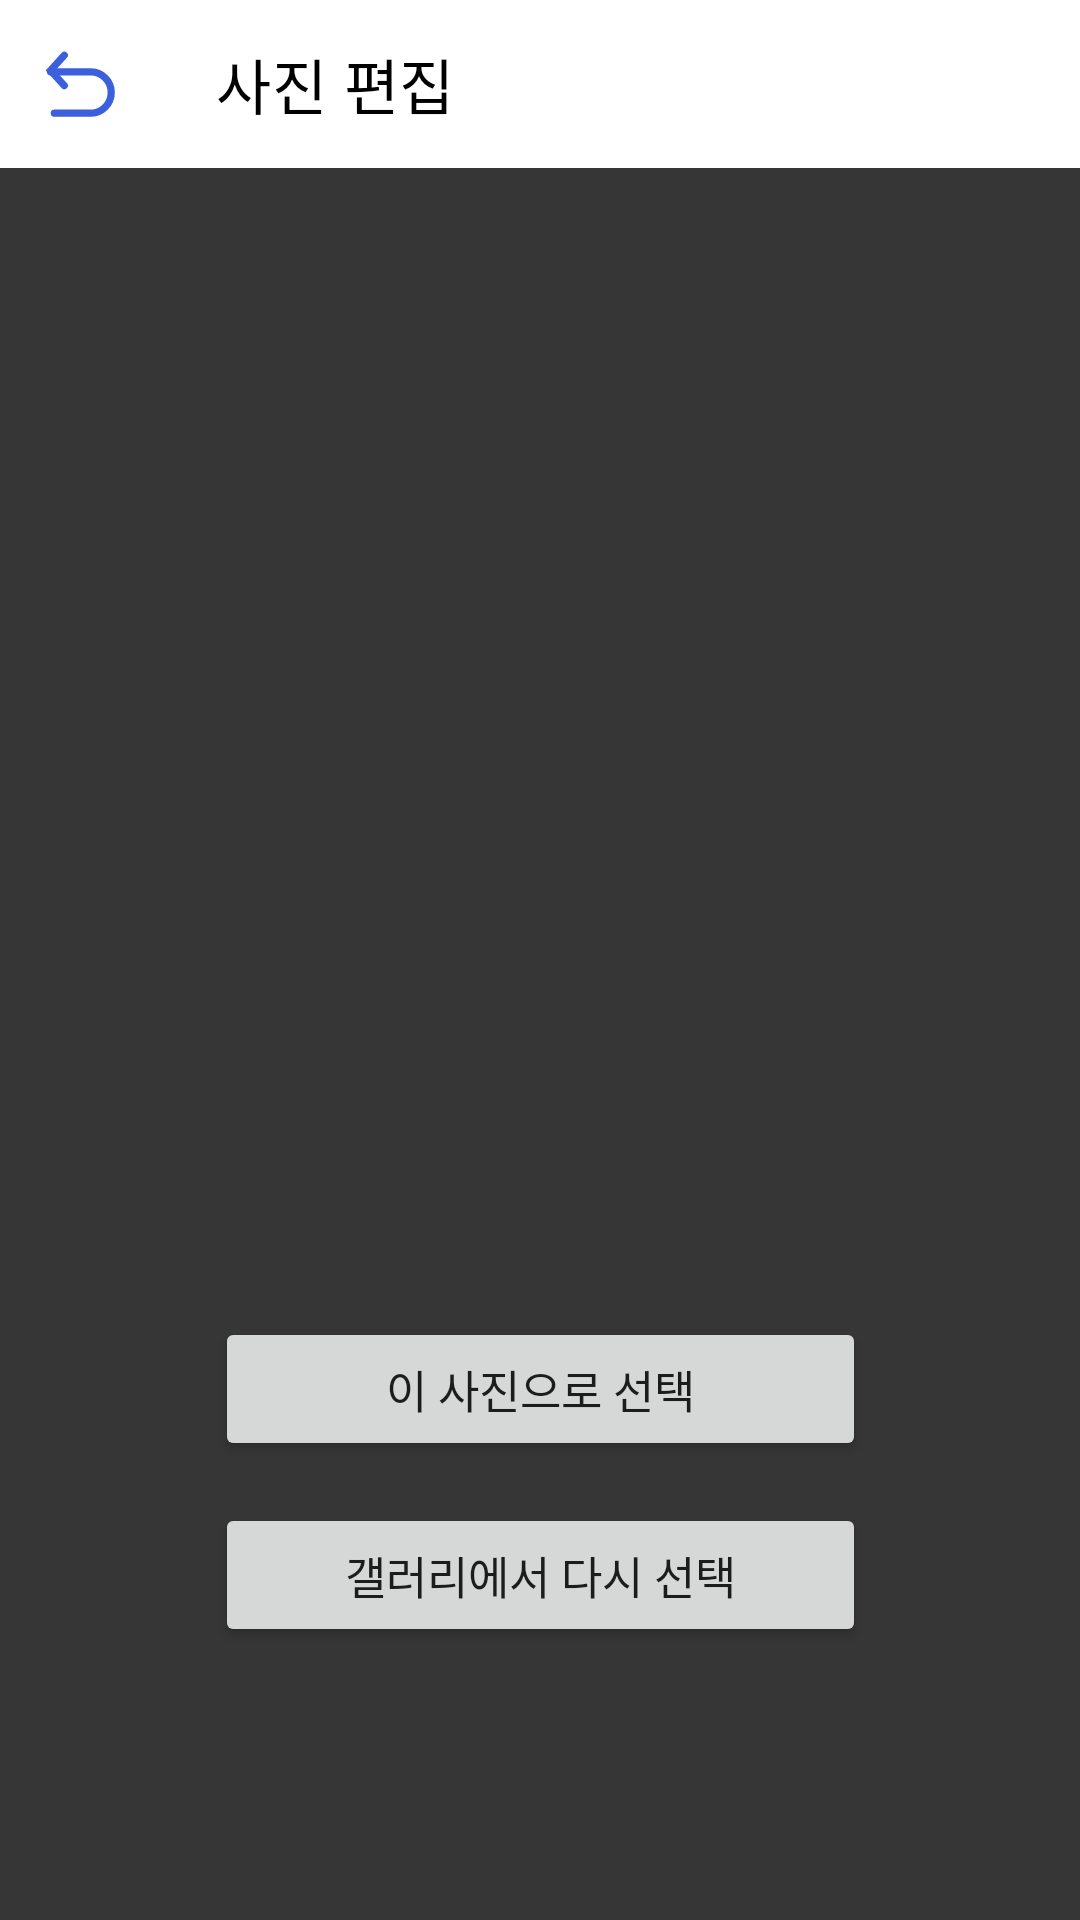

Named icons in this screenshot (1080w x 1920h) and their centers, (x,y):
previous: (80,84)
